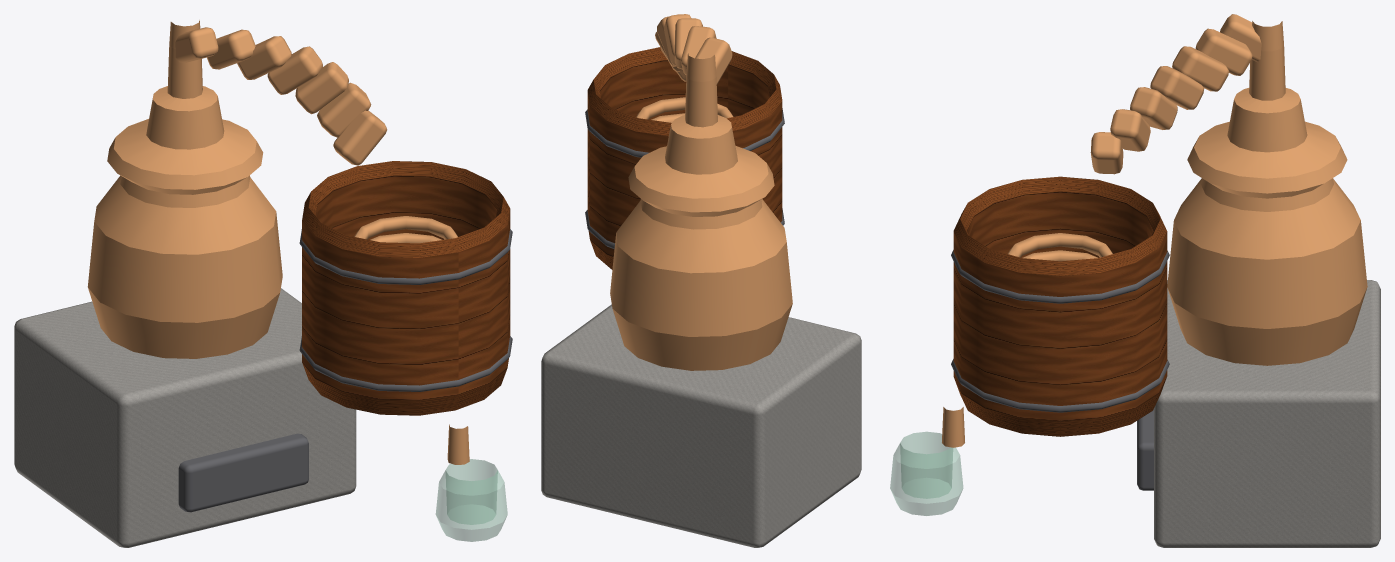
The model's file is witch-cottage-and-apothecary-copper-still-f55cec8e__32465.glb.
The picture shows the model from 3 angles, left to right: view 1: azimuth 30°, elevation 25°; view 2: azimuth 150°, elevation 25°; view 3: azimuth 270°, elevation 25°; orthographic projection. The views are drawn at different scales.
Parts seen in each view (by area): view 1: copper-still; view 2: copper-still; view 3: copper-still.
Part boxes in pixels (x1=…): copper-still: x1=14, y1=20, x2=512, y2=547; copper-still: x1=541, y1=14, x2=861, y2=547; copper-still: x1=890, y1=14, x2=1380, y2=547.
Bounding box in the file's own units: 1.17 × 1.57 × 1.47.
Materials: 6 (2 with a texture image).
